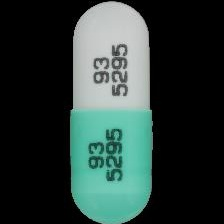60687-140: (0, 0, 224, 224)
